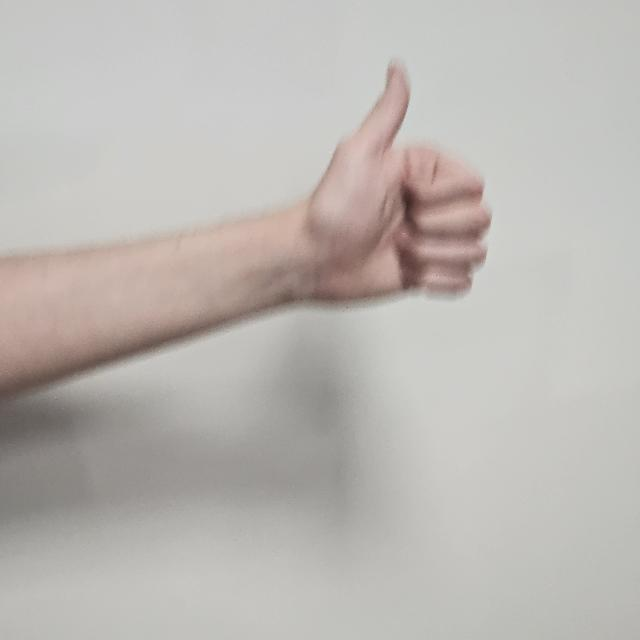Start: (314, 64, 492, 316)
